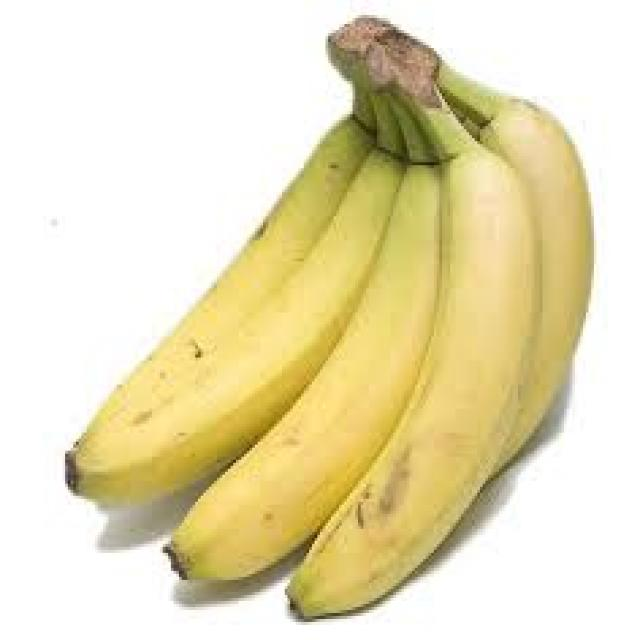organic waste: (62, 36, 420, 505), (287, 66, 537, 625), (166, 87, 440, 577), (415, 42, 591, 490)
